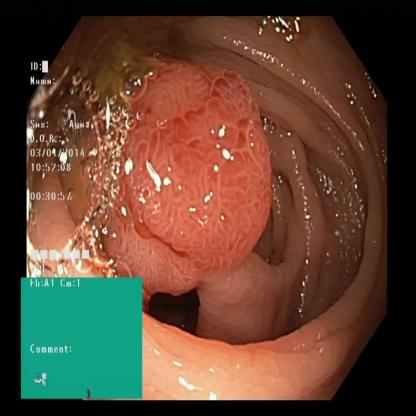Labels: (28, 53, 118, 274), (20, 279, 142, 401)
Polyps: (129, 42, 286, 274)
